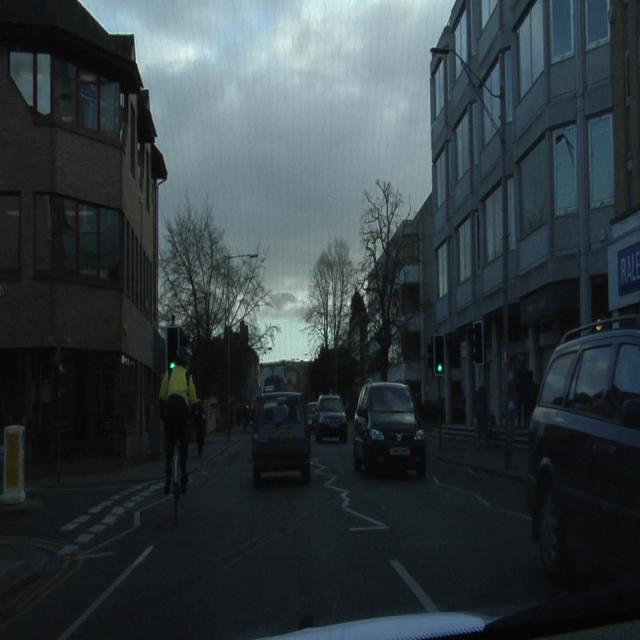Bicyclist: (162, 353, 190, 523)
Building: (387, 0, 638, 435), (1, 0, 166, 461)
Car: (530, 329, 639, 576), (354, 382, 425, 475), (252, 393, 311, 485), (316, 395, 346, 440)
Road: (3, 438, 539, 635)
Tree: (159, 208, 264, 408), (305, 180, 404, 391), (360, 182, 406, 298), (362, 181, 407, 266)
person: (161, 352, 190, 523)
